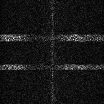wifi: (1, 34, 104, 41), (1, 64, 104, 69)
